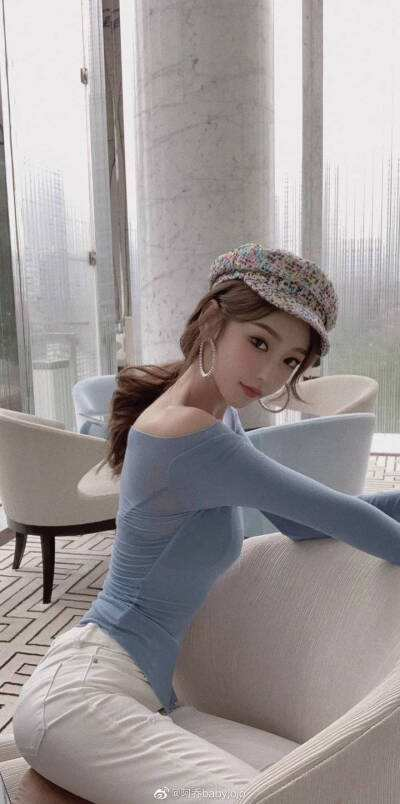person: (77, 206, 330, 800)
